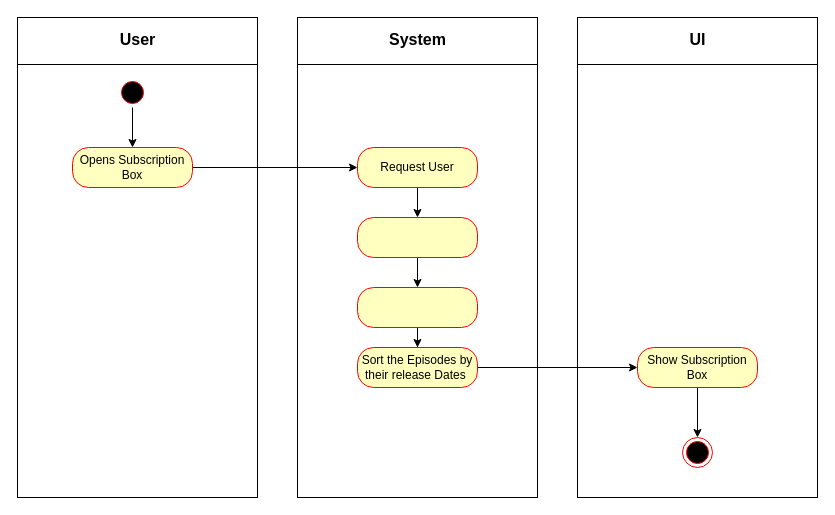
Some shapes in this 835 by 515 pixel diagram are drawn without their labels. Each missing label, with the centre of its shape:
"Request Episodes of the Animes" belongs at point (417, 307).
"Request Subscribed Animes" belongs at point (417, 237).
